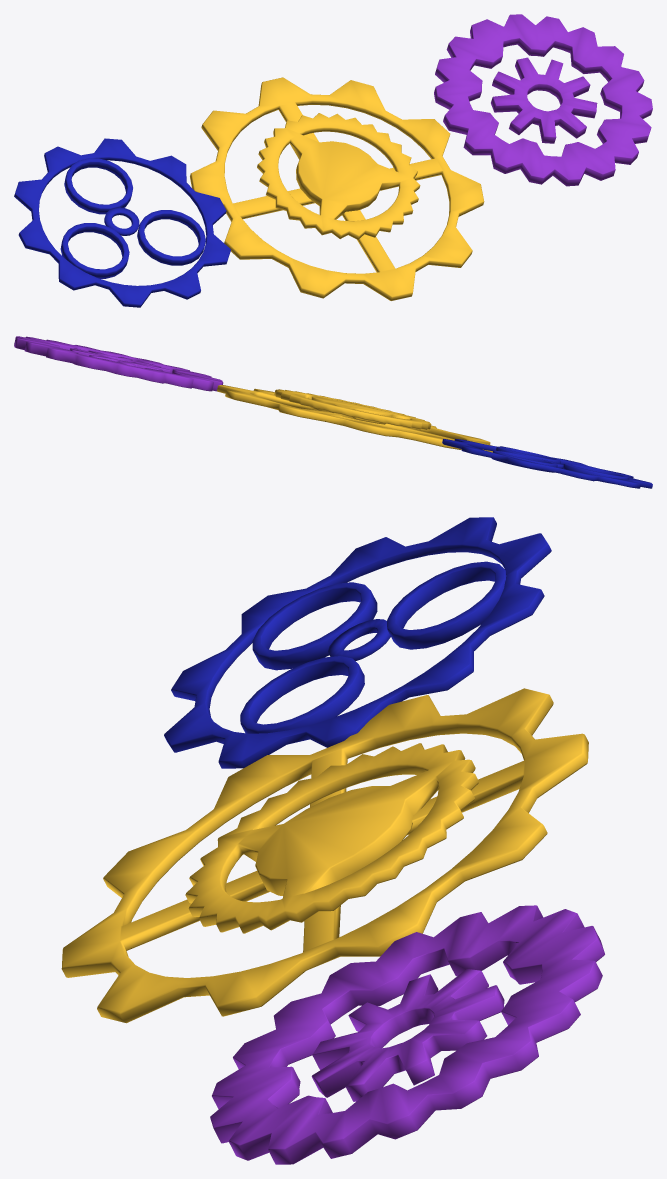
File: engrenage1_2_3.FBX
3 views of the same model, one above another, from view 1: azimuth 30°, elevation 25°; view 2: azimuth 150°, elevation 25°; view 3: azimuth 270°, elevation 25° (orthographic). The views are drawn at different scales.
Parts seen in each view (by area): view 1: g_engrenage1_engrenage1, g_engrenage2_engrenage2, g_engrenage3_engrenage3; view 2: g_engrenage1_engrenage1, g_engrenage2_engrenage2, g_engrenage3_engrenage3; view 3: g_engrenage1_engrenage1, g_engrenage2_engrenage2, g_engrenage3_engrenage3.
Part boxes in pixels (x1,y1,x2,y2): g_engrenage1_engrenage1: [190, 77, 484, 300]; g_engrenage2_engrenage2: [434, 14, 652, 186]; g_engrenage3_engrenage3: [14, 138, 230, 307]; g_engrenage1_engrenage1: [217, 385, 492, 452]; g_engrenage2_engrenage2: [14, 336, 223, 391]; g_engrenage3_engrenage3: [442, 438, 652, 488]; g_engrenage1_engrenage1: [61, 688, 588, 1023]; g_engrenage2_engrenage2: [210, 905, 604, 1164]; g_engrenage3_engrenage3: [164, 517, 551, 768].
Bounding box in the file's own units: 50.17 × 9.52 × 19.61.
